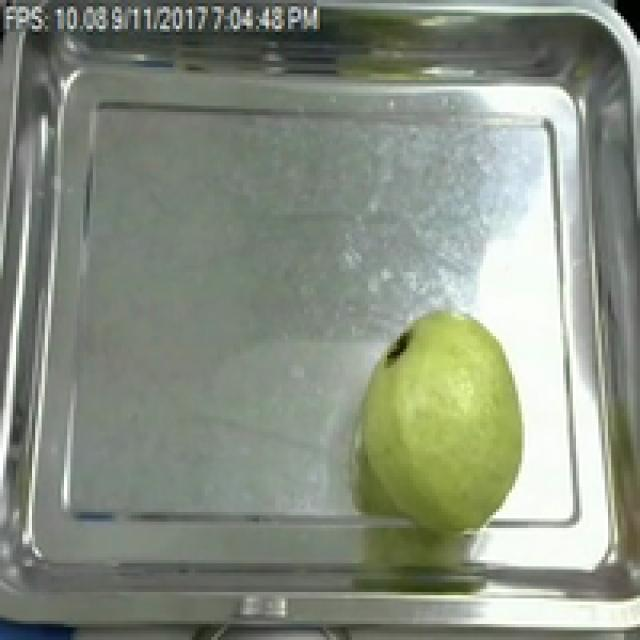Fruit: (348, 304, 538, 538)
